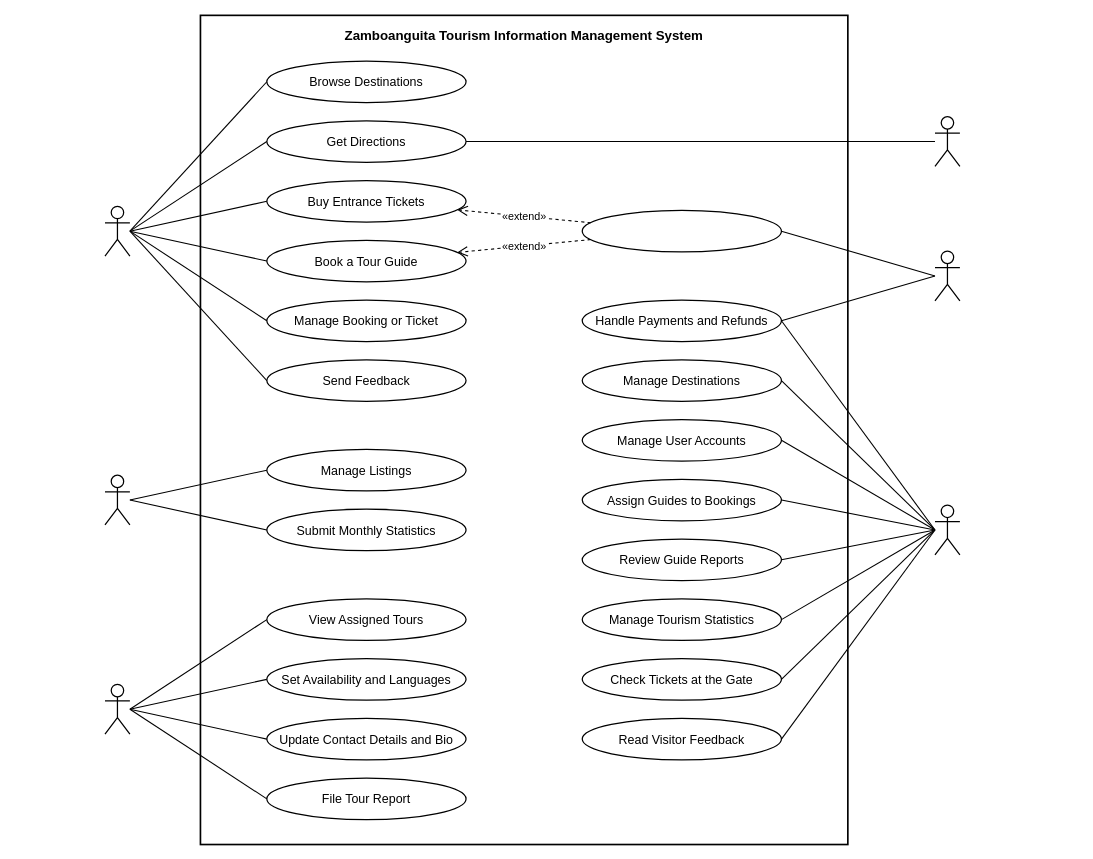
Image size: 1093x859. Some labels were removed from this diagram. Each missing label, with the box of its shape:
Establishment Manager: (104, 474, 130, 525)
Map and Directions Providers: (934, 116, 960, 167)
Pay Online: (581, 209, 782, 252)
Tourism Officer: (934, 504, 960, 555)
Tourist Guide: (104, 683, 130, 734)
Visitor: (104, 205, 130, 256)
Xendit Payment Gateway: (934, 250, 960, 301)
